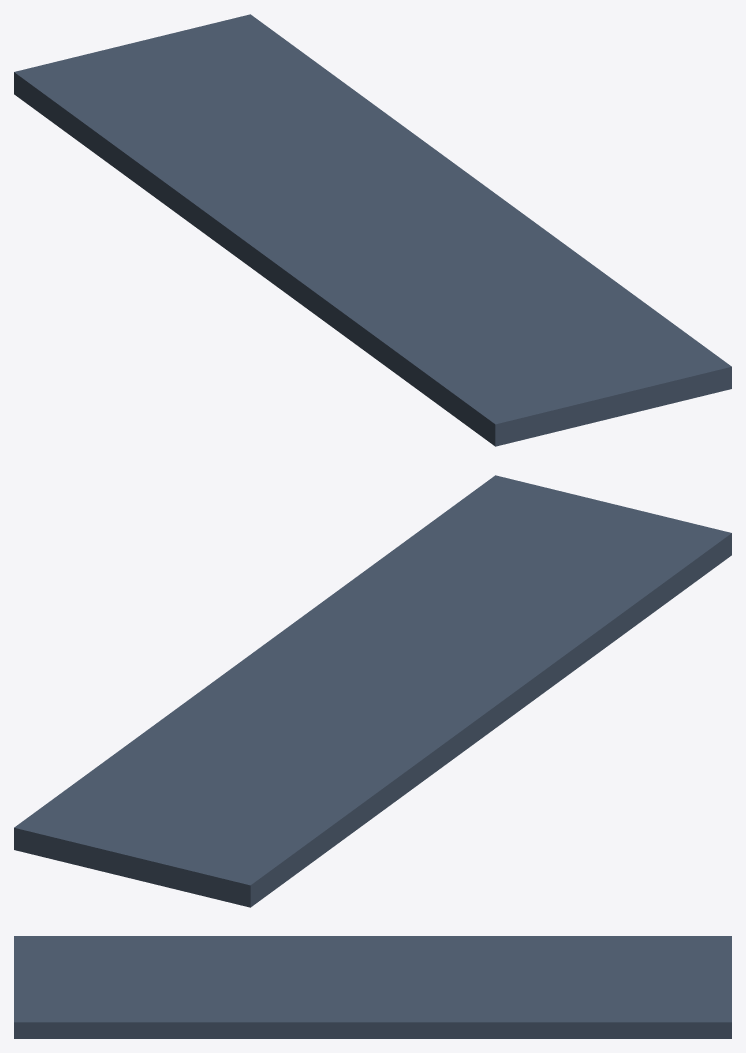
The model's file is floor_003_u_medbay_korotkiy_chistyy_koridor_2_2_floor.obj.
The picture shows the model from 3 angles, top to bottom: view 1: azimuth 30°, elevation 25°; view 2: azimuth 150°, elevation 25°; view 3: azimuth 270°, elevation 25°; orthographic projection. The views are drawn at different scales.
Visible parts, largest first — view 1: Floor_003_u_medbay_korotkiy_chistyy_koridor_2_2_floor; view 2: Floor_003_u_medbay_korotkiy_chistyy_koridor_2_2_floor; view 3: Floor_003_u_medbay_korotkiy_chistyy_koridor_2_2_floor.
Part boxes in pixels (box(x1,y1,x2,y2)): Floor_003_u_medbay_korotkiy_chistyy_koridor_2_2_floor: box(14, 14, 731, 446); Floor_003_u_medbay_korotkiy_chistyy_koridor_2_2_floor: box(14, 475, 731, 907); Floor_003_u_medbay_korotkiy_chistyy_koridor_2_2_floor: box(14, 936, 731, 1038).
Bounding box in the file's own units: 2.22 × 0.2 × 7.83.
